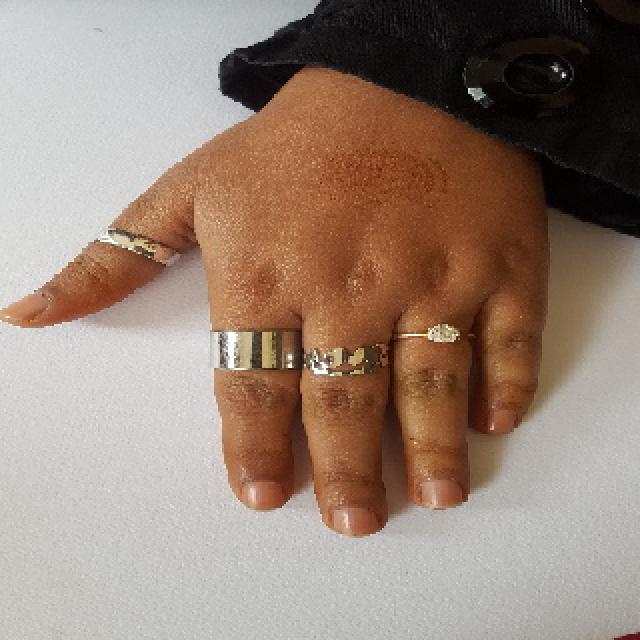Nail: (0, 291, 50, 327), (330, 506, 380, 536), (240, 480, 286, 510), (420, 479, 462, 509), (488, 409, 518, 434)
